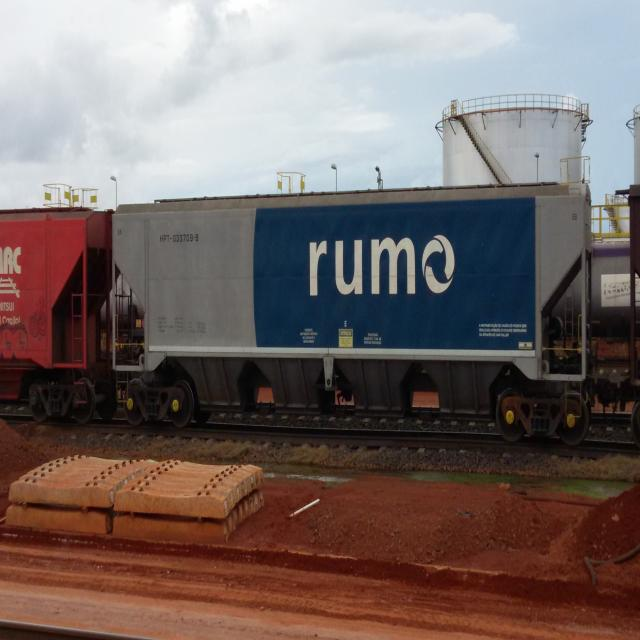hopper: (105, 167, 596, 422), (0, 186, 105, 423)
